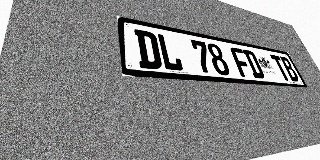7: (189, 39, 216, 74)
8: (205, 42, 231, 76)
B: (279, 56, 300, 82)
D: (134, 29, 163, 70), (242, 49, 266, 79)
F: (229, 47, 254, 78)
L: (156, 33, 184, 72)
T: (270, 54, 292, 81)
